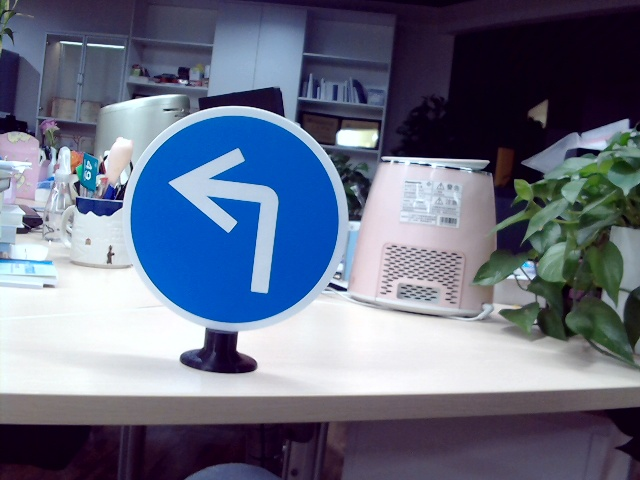turn_left: (168, 141, 285, 293)
